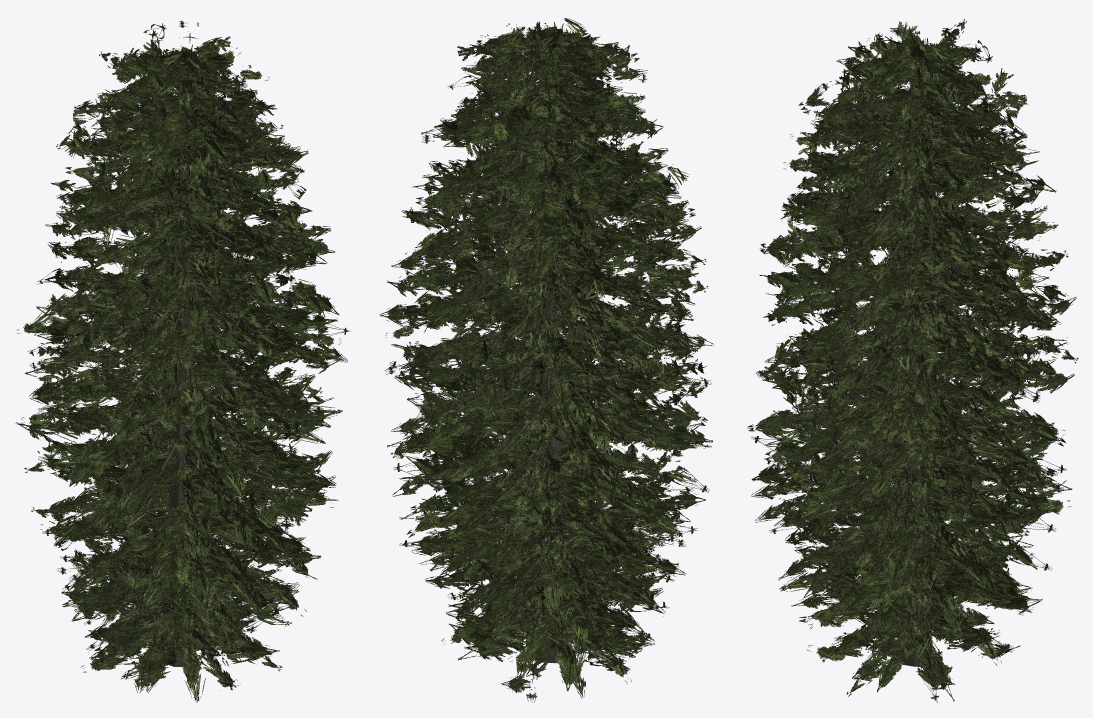
File: conifer_v4_lod0.glb
3 views of the same model, side by side, from view 1: azimuth 30°, elevation 25°; view 2: azimuth 150°, elevation 25°; view 3: azimuth 270°, elevation 25° (orthographic). The views are drawn at different scales.
Parts seen in each view (by area): view 1: conifer_v4_lod0; view 2: conifer_v4_lod0; view 3: conifer_v4_lod0.
Boxes of the visible parts, x1,y1,x2,y2 form: conifer_v4_lod0: (15,21,349,702); conifer_v4_lod0: (379,18,713,702); conifer_v4_lod0: (747,19,1078,702).
Bounding box in the file's own units: 8.99 × 18.9 × 8.81.
Materials: 1 (1 with a texture image).
